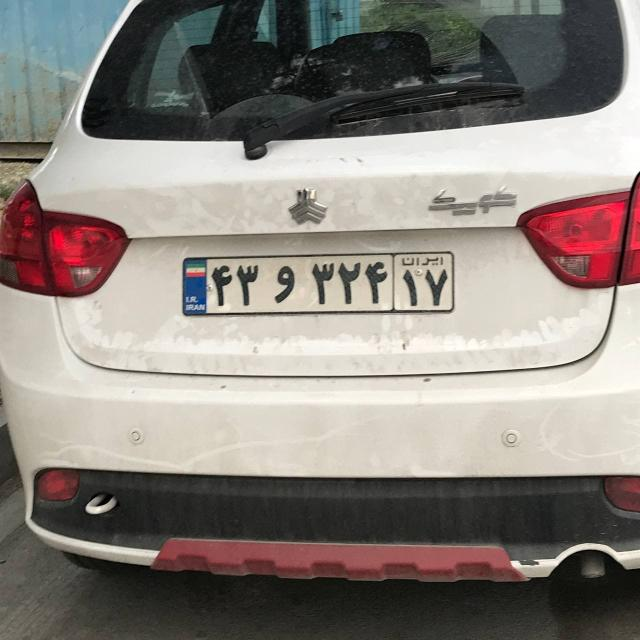Plates: (182, 253, 454, 318)
